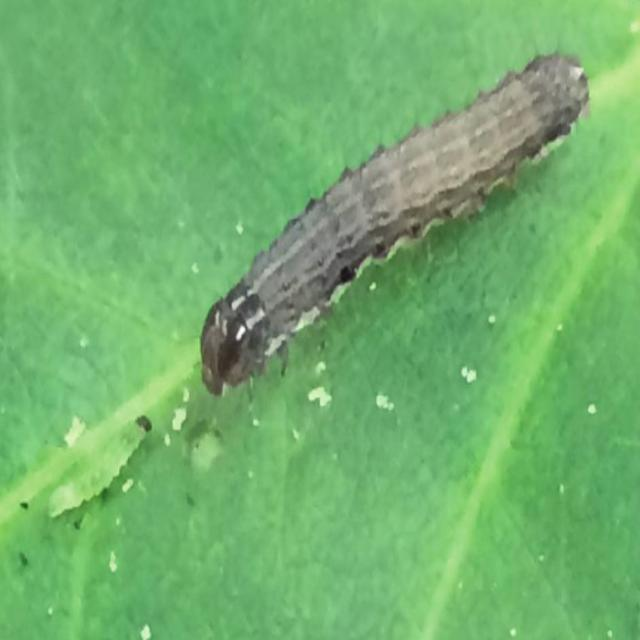Fall-armyworm: (199, 52, 592, 394)
